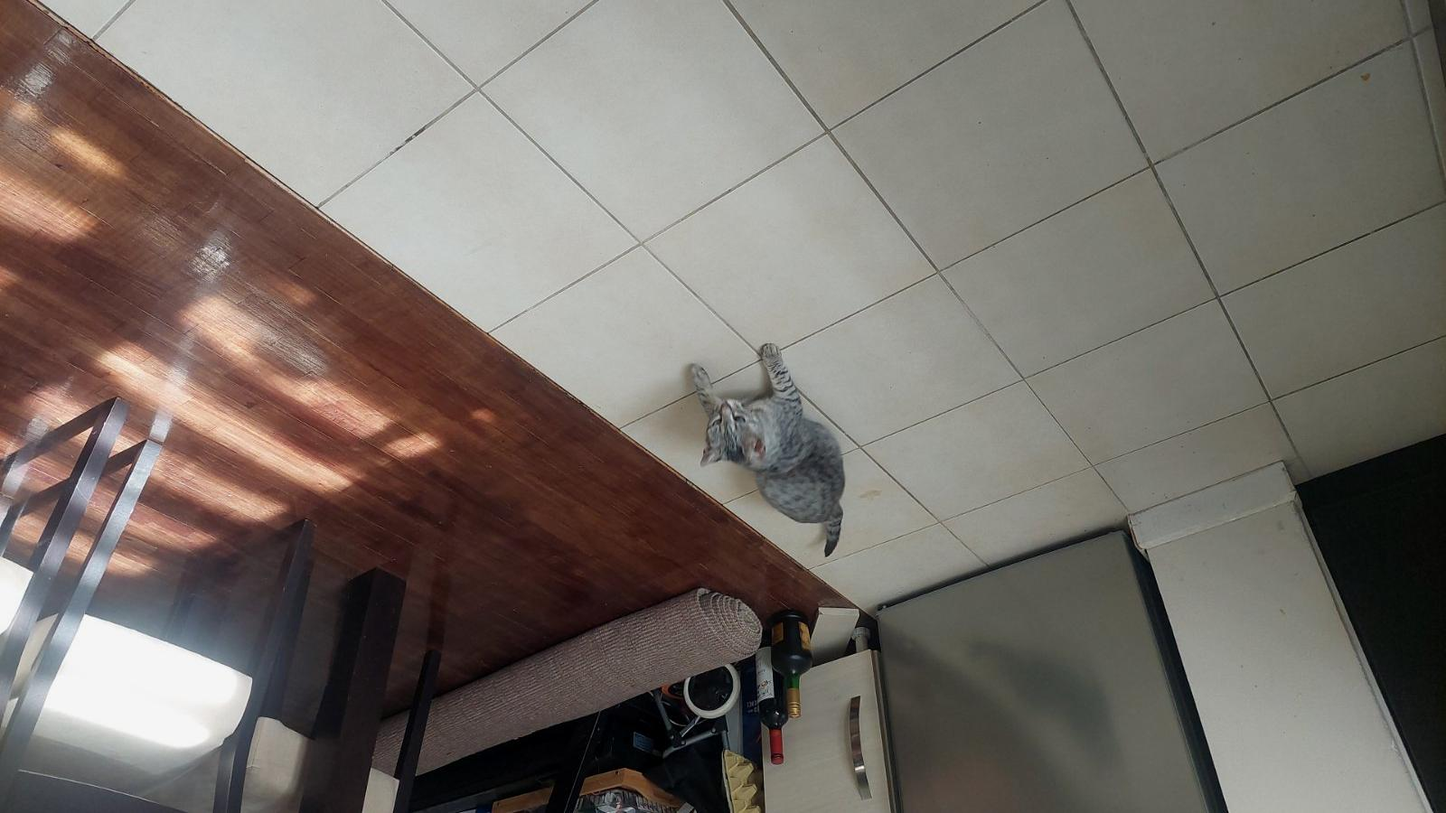macka: (690, 342, 845, 558)
